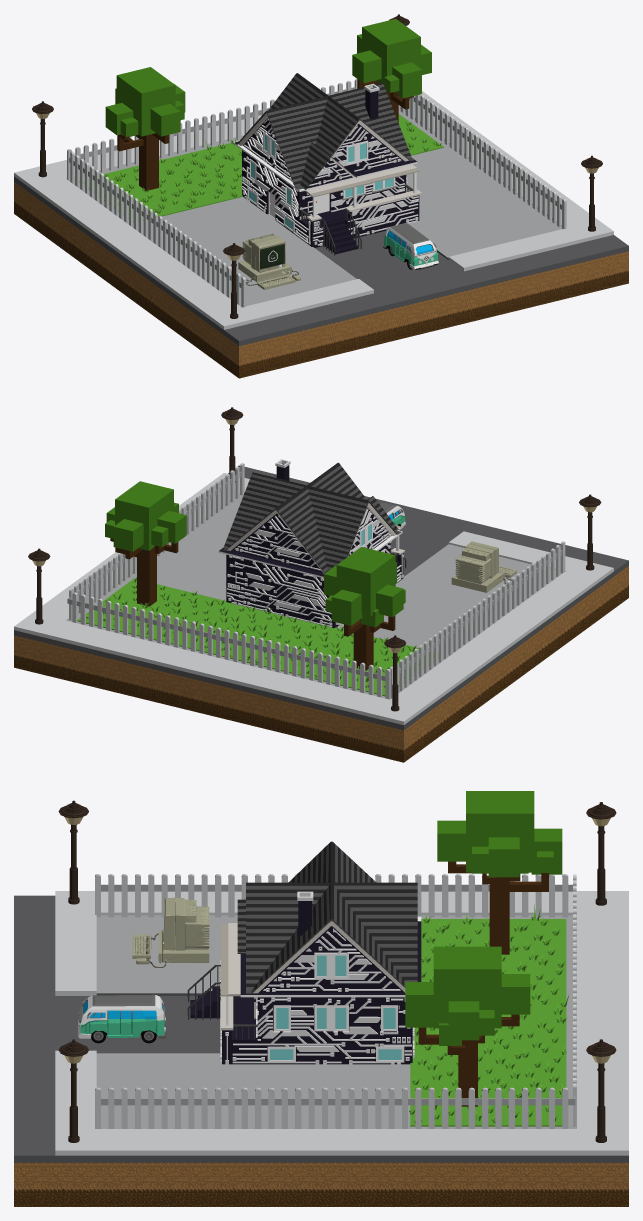
3 renders of one model, top to bottom at view 1: azimuth 30°, elevation 25°; view 2: azimuth 150°, elevation 25°; view 3: azimuth 270°, elevation 25°, orthographic. The views are drawn at different scales.
Parts seen in each view (by area): view 1: Cube.004, Cube.918, OBJRANDOM_RETRO_PC, VEHICLES_VAN; view 2: Cube.004, Cube.918, OBJRANDOM_RETRO_PC; view 3: Cube.004, Cube.918, VEHICLES_VAN, OBJRANDOM_RETRO_PC.
Part boxes in pixels (box(x1,y1,x2,y2)): Cube.004: box(14, 14, 628, 378); Cube.918: box(233, 73, 422, 255); OBJRANDOM_RETRO_PC: box(238, 233, 300, 289); VEHICLES_VAN: box(383, 223, 438, 270); Cube.004: box(14, 407, 628, 762); Cube.918: box(218, 459, 406, 627); OBJRANDOM_RETRO_PC: box(451, 541, 516, 592); Cube.004: box(14, 791, 628, 1206); Cube.918: box(187, 841, 421, 1064); VEHICLES_VAN: box(78, 994, 166, 1043); OBJRANDOM_RETRO_PC: box(132, 897, 209, 967).
Size of the model in its own units: 4000 by 1551 by 4000.
Materials: 33 (4 with a texture image).
